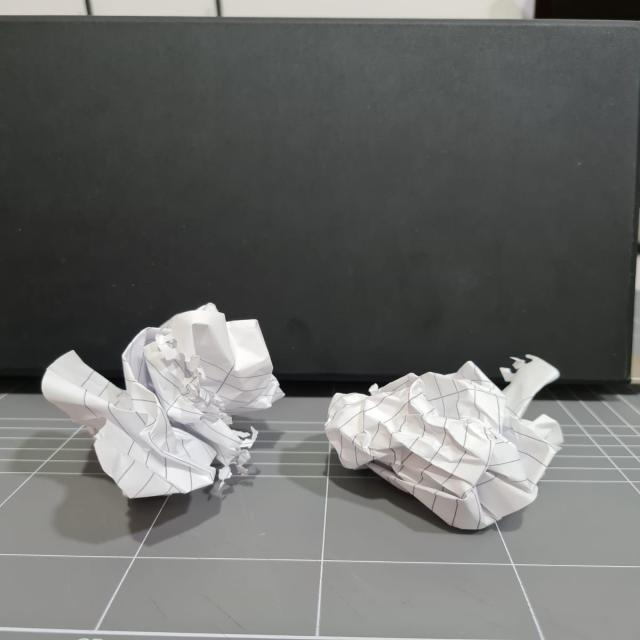cardboard paper: (41, 302, 282, 496), (324, 354, 561, 528)
